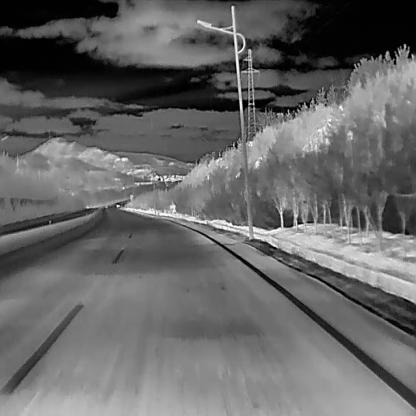car: (115, 203, 120, 208)
